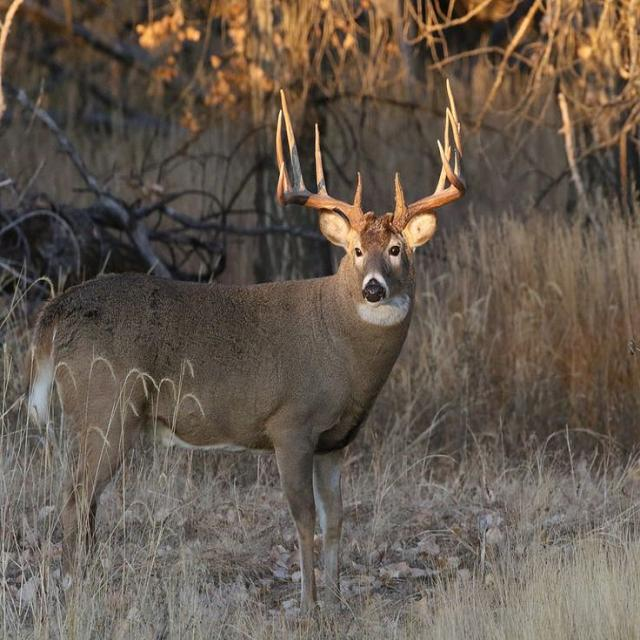L-F: (392, 138, 467, 230)
L-G1: (395, 172, 406, 212)
R-F: (278, 159, 365, 231)
R-G1: (354, 172, 362, 212)
R-G2: (315, 123, 328, 195)
R-G3: (280, 88, 306, 191)
